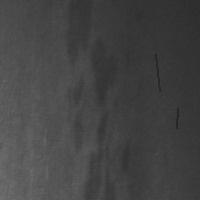inclusion: (84, 37, 119, 199), (60, 1, 93, 159), (153, 52, 161, 93), (174, 106, 179, 130)
